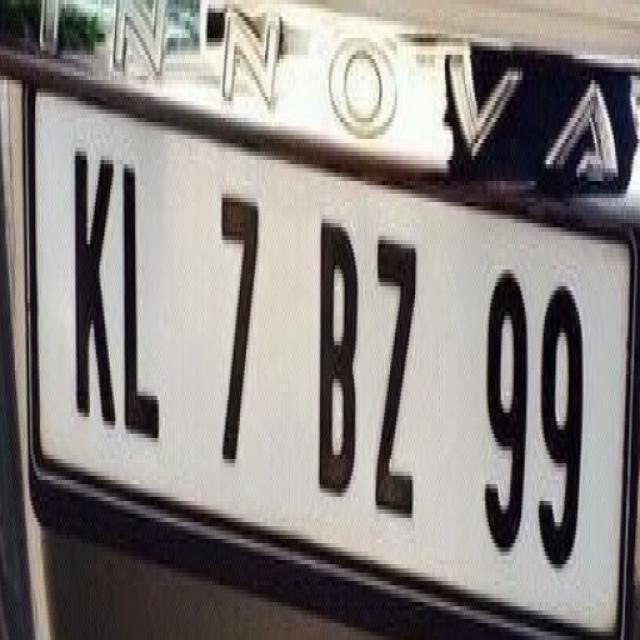7: (214, 175, 265, 477)
9: (538, 259, 590, 576), (484, 255, 530, 568)
B: (312, 198, 360, 509)
K: (69, 131, 117, 443)
L: (121, 150, 164, 458)
Z: (369, 215, 421, 531)
